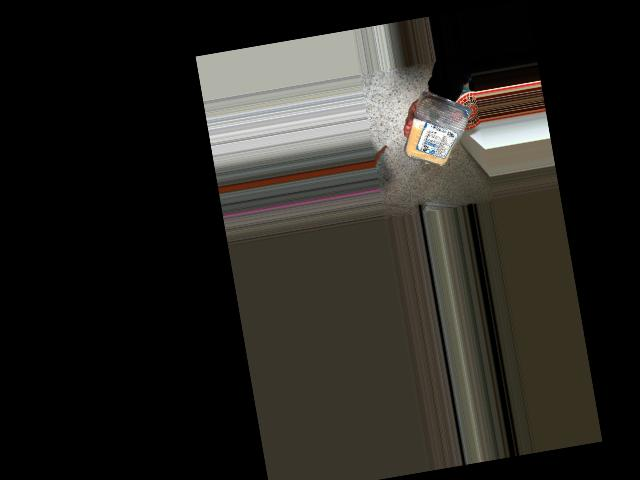cheese: (403, 89, 478, 175)
